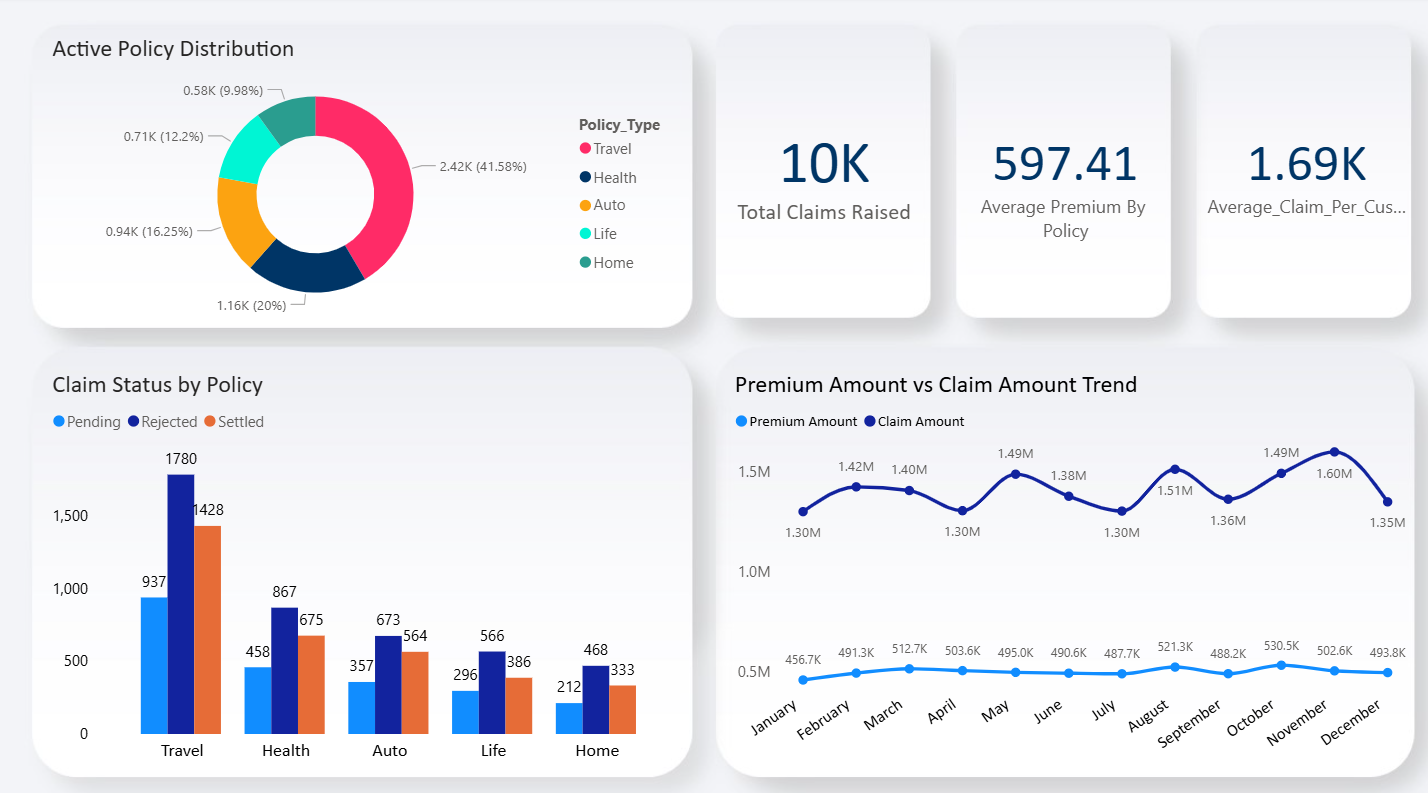

The dashboard page shown, as its layout file describes it:
{"tool":"powerbi","page":{"name":"Page 2","canvas":[1280,720],"ordinal":1},"visuals":[{"type":"card","fields":{"Values":["Measures Table.no of claims"]},"box":[639.5,24.5,192,261.7],"z":0},{"type":"card","fields":{"Values":["Measures Table.avg claim per customer"]},"box":[1070,24.5,192,261.7],"z":1000},{"type":"card","fields":{"Values":["Measures Table.avg premmium policy type"]},"box":[854.8,24.5,192,261.7],"z":2000},{"type":"clusteredColumnChart","title":"Claim Status by Policy","fields":{"Category":["InsuranceData.PolicyType"],"Series":["InsuranceData.ClaimStatus"],"Y":["CountNonNull(InsuranceData.ClaimStatus)"]},"box":[43.4,333,569.4,358.3],"z":3000},{"type":"lineChart","title":"Premium Amount vs Claim Amount Trend","fields":{"Category":["Date Table.Date.Variation.Date Hierarchy.Month"],"Y":["Sum(InsuranceData.PremiumAmount)","Sum(InsuranceData.ClaimAmount)"]},"box":[651.5,333,610.5,358.3],"z":4000},{"type":"donutChart","title":"Active Policy Distribution","fields":{"Y":["CountNonNull(InsuranceData.Active/Inactive)"],"Category":["InsuranceData.PolicyType"]},"box":[43.4,33.4,568.8,261.6],"z":5000}]}

Visuals, with their boxes in screenshot pixels (x1, y1, x2, y2), scaled from the page's 1280x720 canvas onto the 1428x793 screenshot:
card - Measures Table.no of claims: crop(713, 27, 928, 315)
card - Measures Table.avg claim per customer: crop(1194, 27, 1408, 315)
card - Measures Table.avg premmium policy type: crop(954, 27, 1168, 315)
"Claim Status by Policy" clusteredColumnChart: crop(48, 367, 684, 761)
"Premium Amount vs Claim Amount Trend" lineChart: crop(727, 367, 1408, 761)
"Active Policy Distribution" donutChart: crop(48, 37, 683, 325)
